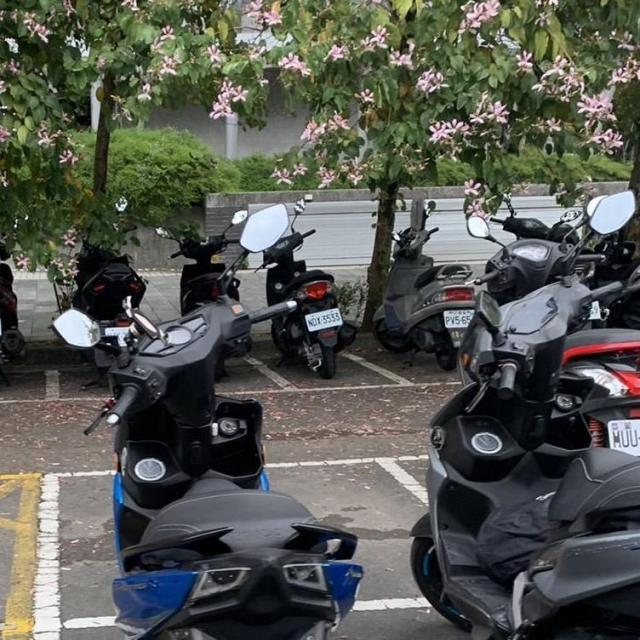W: (601, 408, 640, 460), (297, 303, 349, 334), (438, 306, 480, 333), (0, 311, 10, 342)
